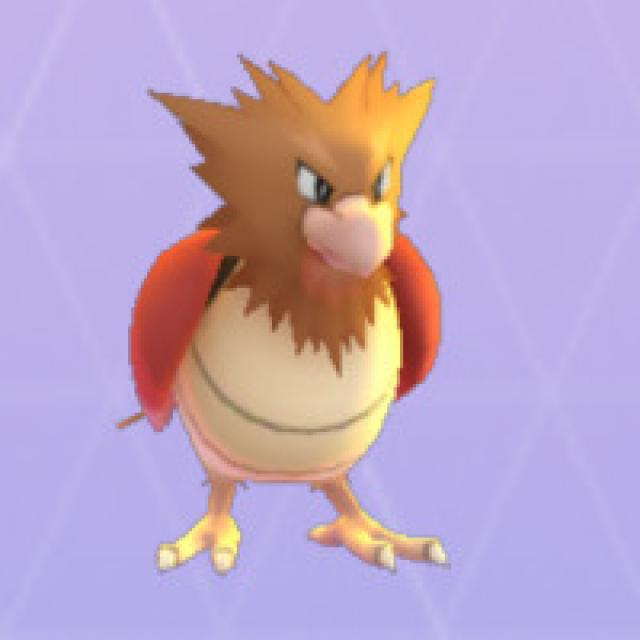Spearow: (126, 52, 440, 578)
